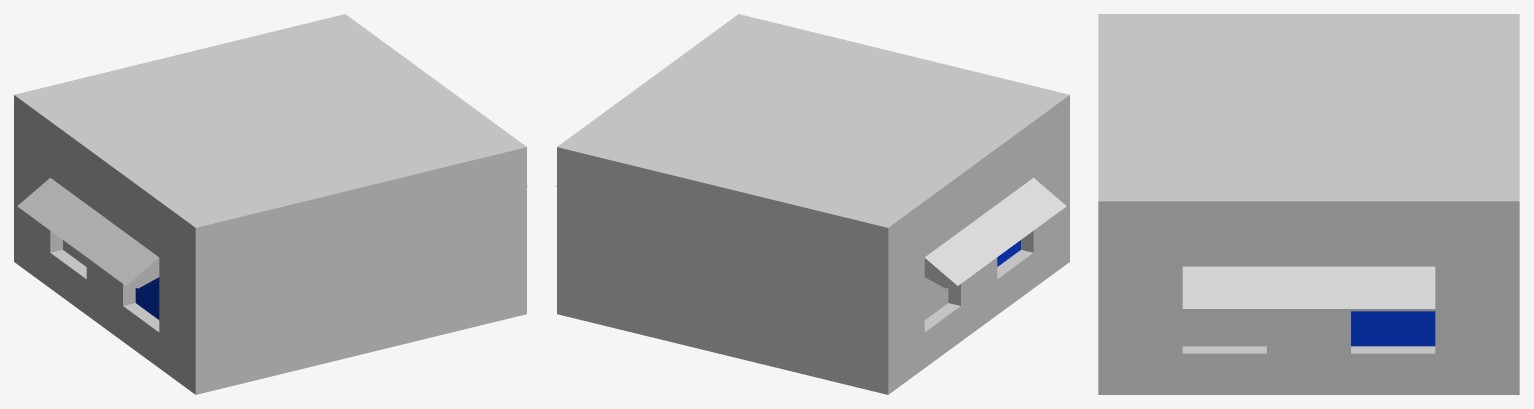
The model's file is Top_Floor_low.fbx.
The picture shows the model from 3 angles, left to right: view 1: azimuth 30°, elevation 25°; view 2: azimuth 150°, elevation 25°; view 3: azimuth 270°, elevation 25°; orthographic projection. The views are drawn at different scales.
Visible parts, largest first — view 1: Top_Floor_low; view 2: Top_Floor_low; view 3: Top_Floor_low.
Boxes of the visible parts, <box> form: Top_Floor_low: <box>14,14,527,394</box>; Top_Floor_low: <box>556,14,1069,394</box>; Top_Floor_low: <box>1098,14,1519,394</box>.
Size of the model in its own units: 2566 by 1019 by 2011.
